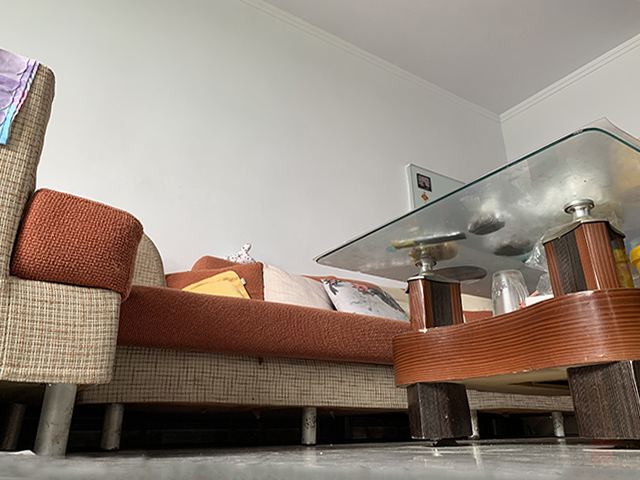sofa: (1, 192, 332, 458)
table: (311, 117, 640, 450)
